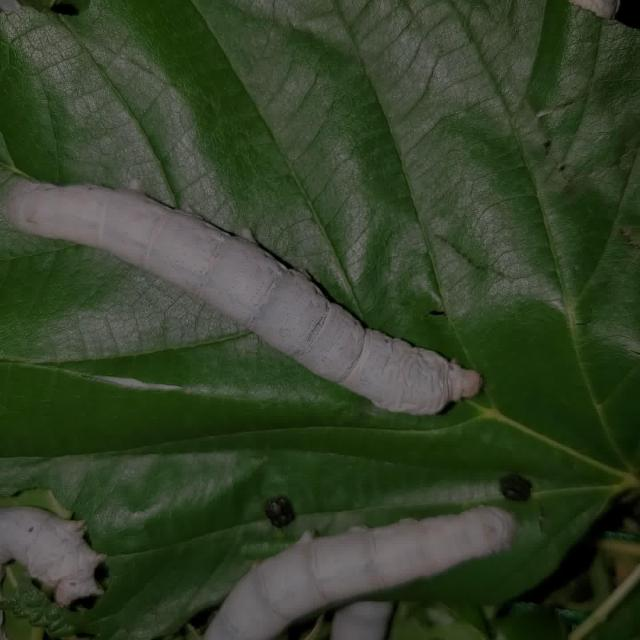Healthy: (0, 134, 508, 424)
